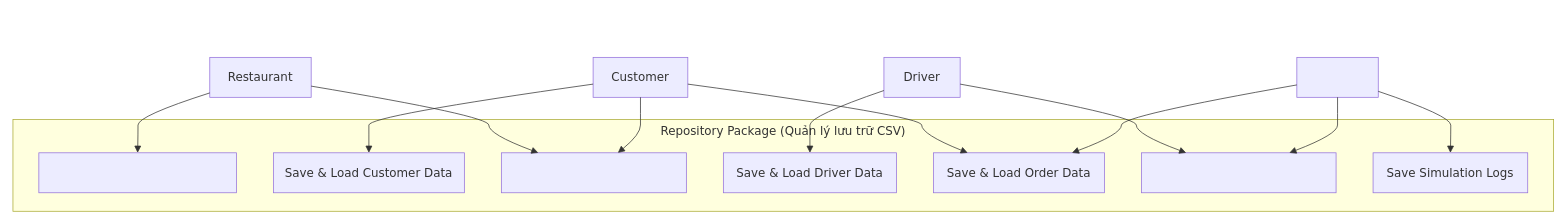
The diagram is 1567 pixels wide and 224 high, and some of its shapes have lost their labels. The centre of each missing label's shape, as x and y in pixels:
"Save & Load Delivery Routes" goes at (1238,172).
"Save & Load Menu & Items" goes at (593,172).
"Save & Load Restaurant Data" goes at (137,172).
"System" goes at (1337,77).
